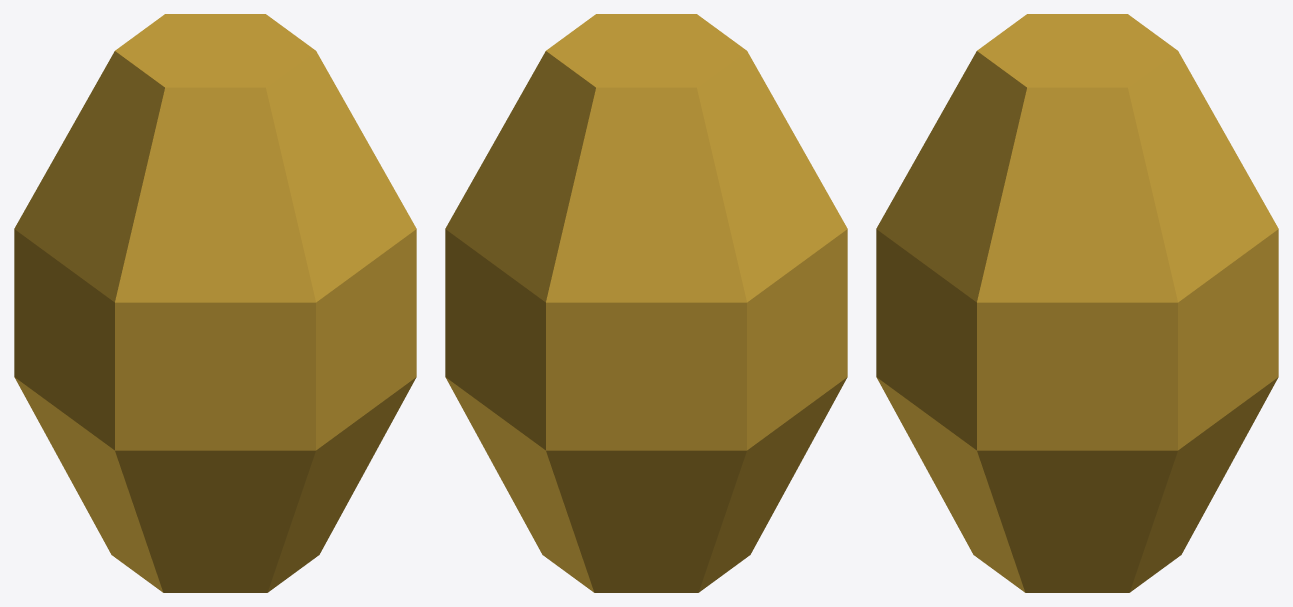
Rendered from peeled_potato.obj.
3 renders of one model, left to right at view 1: azimuth 30°, elevation 25°; view 2: azimuth 150°, elevation 25°; view 3: azimuth 270°, elevation 25°, orthographic.
Visible parts, largest first — view 1: avocado; view 2: avocado; view 3: avocado.
Part boxes in pixels (left/top/right/bottom): avocado: left=14, top=14, right=416, bottom=592; avocado: left=445, top=14, right=847, bottom=592; avocado: left=876, top=14, right=1278, bottom=592.
Bounding box in the file's own units: 0.0751 × 0.1198 × 0.0867.
